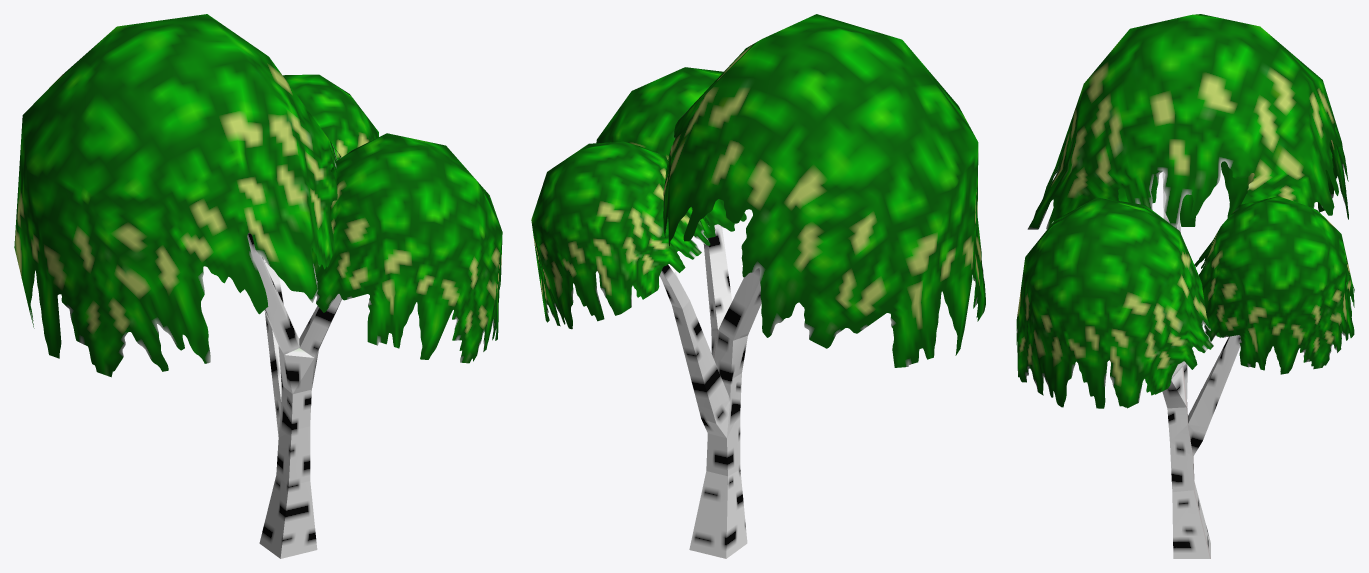
File: SM_Tree_G03.fbx
3 renders of one model, left to right at view 1: azimuth 30°, elevation 25°; view 2: azimuth 150°, elevation 25°; view 3: azimuth 270°, elevation 25°, orthographic. The views are drawn at different scales.
Parts seen in each view (by area): view 1: SM_Tree_G03; view 2: SM_Tree_G03; view 3: SM_Tree_G03.
Boxes of the visible parts, left/top/right/bottom form: SM_Tree_G03: left=14, top=14, right=502, bottom=558; SM_Tree_G03: left=531, top=14, right=985, bottom=558; SM_Tree_G03: left=1016, top=14, right=1354, bottom=558.
Bounding box in the file's own units: 172 × 220 × 140.
